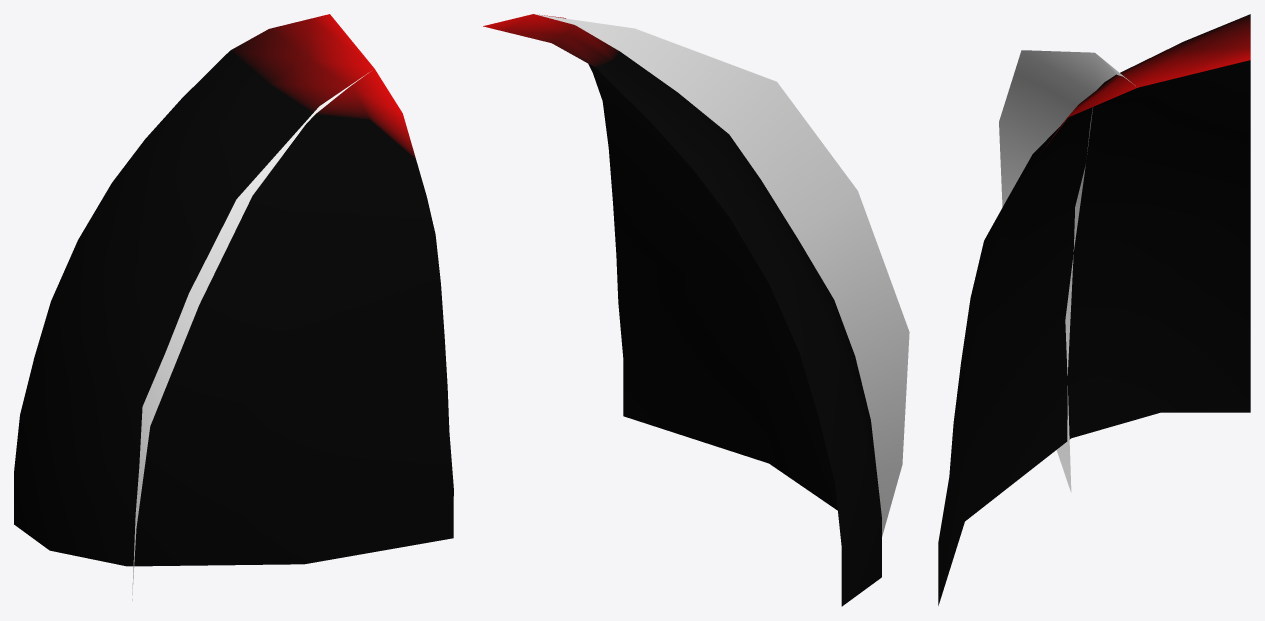
File: TFD_Waterfall_03A_Top_L.fbx
The picture shows the model from 3 angles, left to right: view 1: azimuth 30°, elevation 25°; view 2: azimuth 150°, elevation 25°; view 3: azimuth 270°, elevation 25°; orthographic projection. The views are drawn at different scales.
Visible parts, largest first — view 1: TFD_Waterfall_03A_Top_L; view 2: TFD_Waterfall_03A_Top_L; view 3: TFD_Waterfall_03A_Top_L.
Part boxes in pixels (bbox=[...]): TFD_Waterfall_03A_Top_L: bbox=[14, 14, 453, 600]; TFD_Waterfall_03A_Top_L: bbox=[483, 14, 909, 606]; TFD_Waterfall_03A_Top_L: bbox=[938, 14, 1250, 605].
Bounding box in the file's own units: 3.05 × 4.38 × 2.07.
